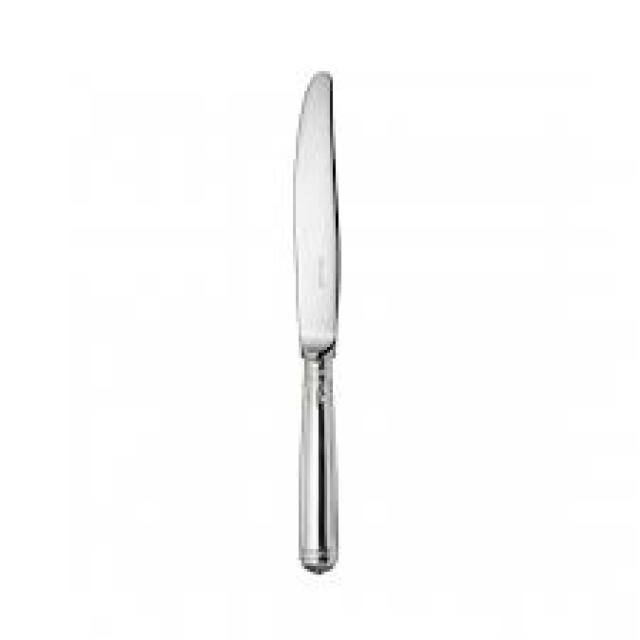knives: (284, 65, 347, 578)
